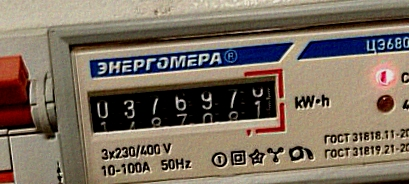0: (93, 96, 109, 120)
1: (251, 98, 264, 119)
3: (121, 97, 137, 120)
6: (171, 88, 189, 112)
7: (146, 92, 163, 117), (224, 85, 241, 110)
9: (198, 87, 214, 110)
screen: (77, 57, 293, 155)
